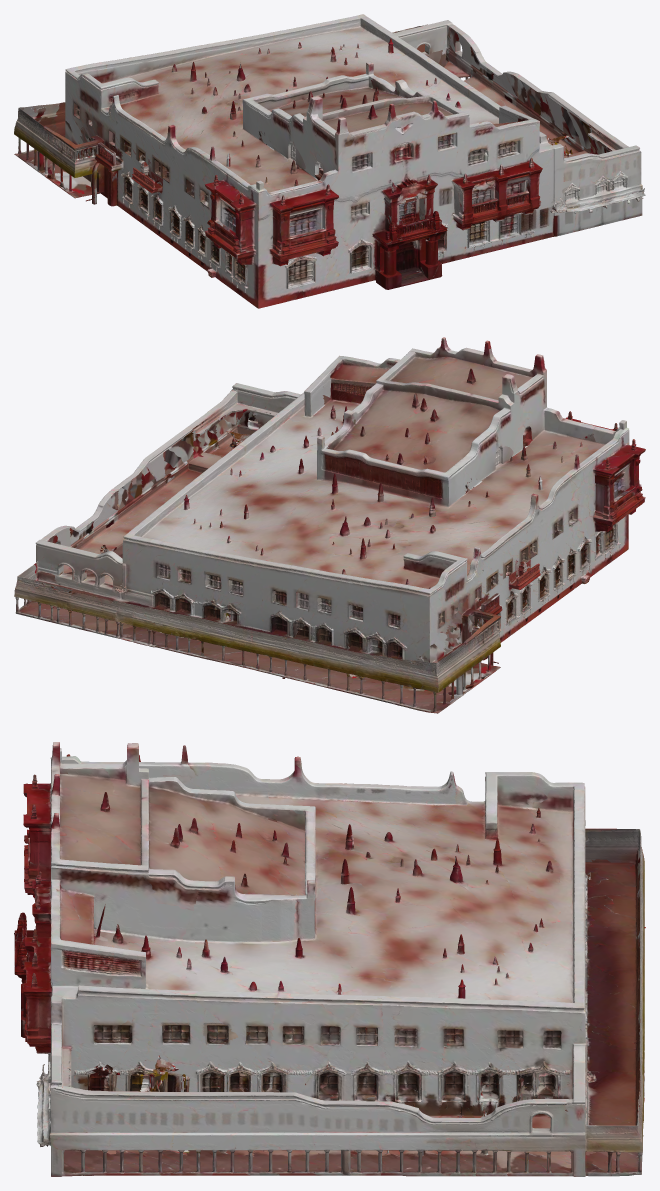
File: municipalidad.glb
The picture shows the model from 3 angles, top to bottom: view 1: azimuth 30°, elevation 25°; view 2: azimuth 150°, elevation 25°; view 3: azimuth 270°, elevation 25°; orthographic projection. The views are drawn at different scales.
Parts seen in each view (by area): view 1: tmp_xoet9gr.obj; view 2: tmp_xoet9gr.obj; view 3: tmp_xoet9gr.obj.
Boxes of the visible parts, <box> form: tmp_xoet9gr.obj: <box>14,14,645,308</box>; tmp_xoet9gr.obj: <box>14,337,645,713</box>; tmp_xoet9gr.obj: <box>14,742,645,1176</box>.
Size of the model in its own units: 1.35 by 0.5438 by 1.29.
1 material, 1 textured.
